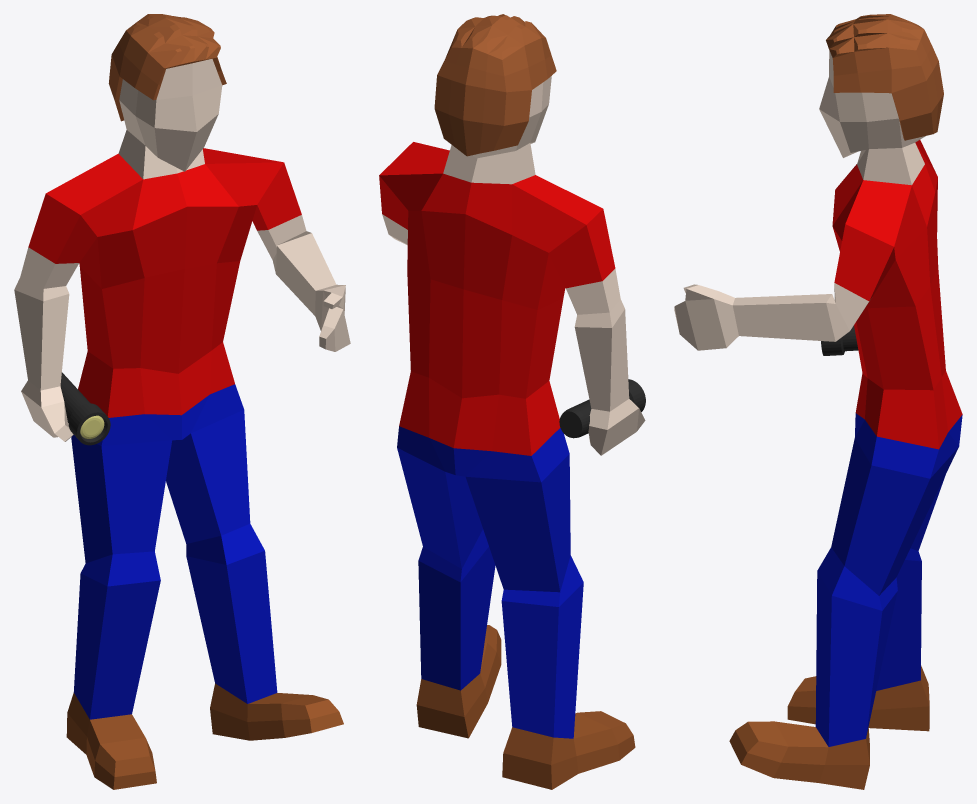
Rendered from Human_grabbing_15.fbx.
3 views of the same model, side by side, from view 1: azimuth 30°, elevation 25°; view 2: azimuth 150°, elevation 25°; view 3: azimuth 270°, elevation 25° (orthographic). The views are drawn at different scales.
Visible parts, largest first — view 1: Person.003, Cylinder.002; view 2: Person.003, Cylinder.002; view 3: Person.003, Cylinder.002.
Boxes of the visible parts, x1,y1,x2,y2 form: Person.003: (14, 14, 350, 789); Cylinder.002: (60, 372, 110, 445); Person.003: (379, 14, 645, 789); Cylinder.002: (559, 379, 645, 438); Person.003: (674, 14, 962, 789); Cylinder.002: (821, 325, 858, 355).
Size of the model in its own units: 0.5852 by 1.57 by 0.5623.
